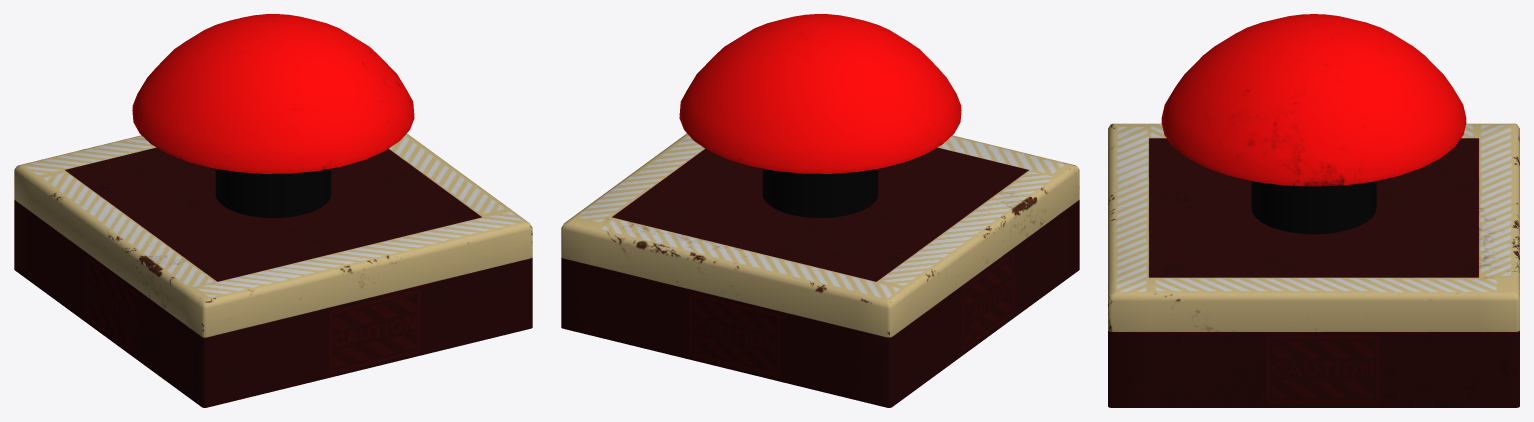
Rendered from button.gltf.
3 renders of one model, left to right at view 1: azimuth 30°, elevation 25°; view 2: azimuth 150°, elevation 25°; view 3: azimuth 270°, elevation 25°, orthographic. The views are drawn at different scales.
Parts seen in each view (by area): view 1: Cube; view 2: Cube; view 3: Cube.
Part boxes in pixels (left/top/right/bottom): Cube: left=14, top=14, right=532, bottom=407; Cube: left=561, top=14, right=1079, bottom=407; Cube: left=1108, top=14, right=1519, bottom=407.
Size of the model in its own units: 2 by 1.56 by 2.
Materials: 1 (1 with a texture image).
